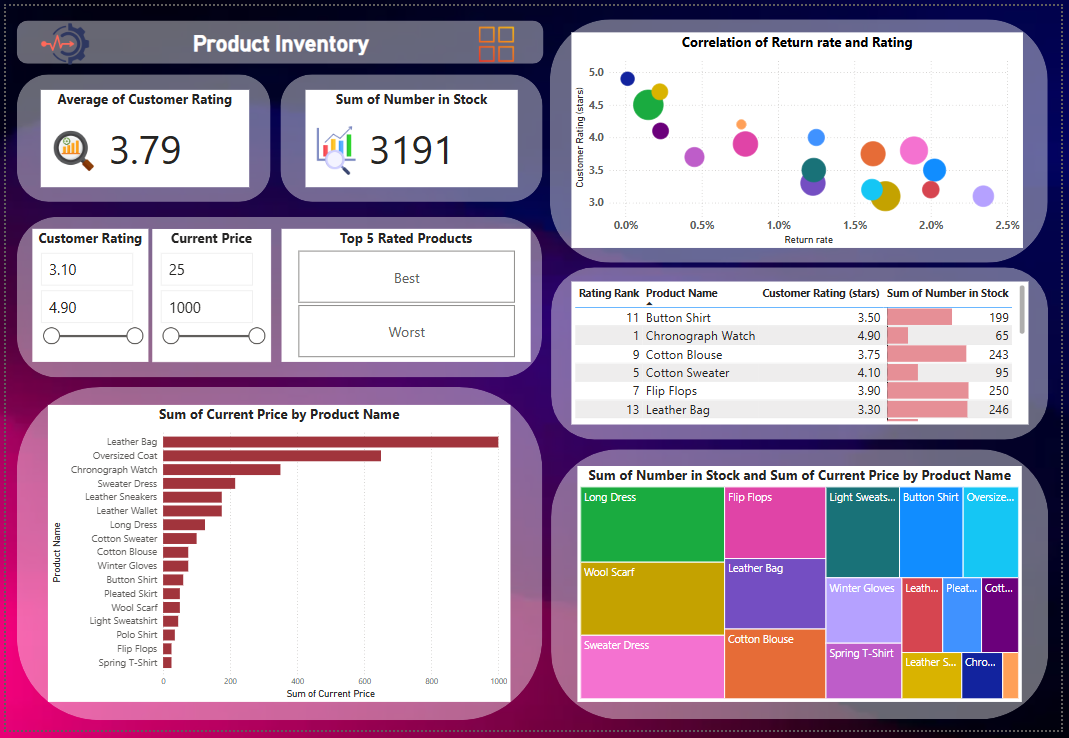

What the dashboard file says about the page in this screenshot:
{"tool":"powerbi","page":{"name":"Product Inventory","canvas":[1600,1100],"ordinal":1},"visuals":[{"type":"shape","box":[826.7,673.3,755,410],"z":0},{"type":"shape","box":[827.3,396.4,754.5,261.8],"z":1000},{"type":"shape","box":[16,578,798,506],"z":2000},{"type":"shape","box":[16,22,800,66],"z":3000},{"type":"shape","box":[16,320,798,244],"z":4000},{"type":"shape","box":[16,104,386,194],"z":5000},{"type":"shape","box":[416,104,398,194],"z":6000},{"type":"shape","box":[826,20,756,370],"z":7000},{"type":"card","title":"Sum of Number in Stock","fields":{"Values":["Sum(Product Inventory.Number in Stock)"]},"box":[454,128,322,148],"z":8000},{"type":"slicer","title":"Customer Rating ","fields":{"Values":["Product Inventory.Customer Rating (stars)"]},"box":[40,338,176,202],"z":9000},{"type":"clusteredBarChart","title":"Sum of Current Price by Product Name","fields":{"Category":["Product Inventory.Product Name"],"Y":["Sum(Product Inventory.Current Price)"]},"box":[63.6,605.5,701.8,450.9],"z":10000},{"type":"treemap","fields":{"Group":["Product Inventory.Product Name"],"Values":["Sum(Product Inventory.Number in Stock)"]},"box":[867.3,698.2,674.5,358.2],"z":11000},{"type":"slicer","title":"Top 5 Rated Products","fields":{"Values":["FilterTable.FilterType"]},"box":[418.2,338.2,378.2,201.8],"z":12000},{"type":"tableEx","fields":{"Values":["Product Inventory.Rating Rank","Product Inventory.Product Name","Product Inventory.Customer Rating (stars)","Sum(Product Inventory.Number in Stock)"]},"box":[858.3,418.3,693.3,216.7],"z":13000},{"type":"scatterChart","title":"Correlation of Return rate and Rating","fields":{"X":["Product Inventory.Return rate"],"Y":["Product Inventory.Customer Rating (stars)"],"Series":["Product Inventory.Product Name"],"Size":["Sum(Product Inventory.Number in Stock)"]},"box":[858.2,40,685.5,327.3],"z":14000},{"type":"textbox","title":"Product Inventory","box":[120,36.4,594.5,38.2],"z":15000},{"type":"image","box":[458,176,86,86],"z":16000},{"type":"image","box":[40,14,100,86],"z":17000},{"type":"image","box":[712,20,64,76],"z":18000},{"type":"card","title":"Average of Customer Rating","fields":{"Values":["Avg(Product Inventory.Customer Rating (stars))"]},"box":[52,128,316,148],"z":19000},{"type":"slicer","title":"Current Price","fields":{"Values":["Product Inventory.Current Price"]},"box":[221.8,338.2,180,201.8],"z":20000},{"type":"image","box":[62,176,82,86],"z":21000}]}

Visuals, with their boxes in screenshot pixels (x1, y1, x2, y2), scaled from the page's 1600x1100 canvas onto the 1069x738 screenshot:
shape: {"x1": 552, "y1": 452, "x2": 1057, "y2": 727}
shape: {"x1": 553, "y1": 266, "x2": 1057, "y2": 442}
shape: {"x1": 11, "y1": 388, "x2": 544, "y2": 727}
shape: {"x1": 11, "y1": 15, "x2": 545, "y2": 59}
shape: {"x1": 11, "y1": 215, "x2": 544, "y2": 378}
shape: {"x1": 11, "y1": 70, "x2": 269, "y2": 200}
shape: {"x1": 278, "y1": 70, "x2": 544, "y2": 200}
shape: {"x1": 552, "y1": 13, "x2": 1057, "y2": 262}
"Sum of Number in Stock" card: {"x1": 303, "y1": 86, "x2": 518, "y2": 185}
"Customer Rating " slicer: {"x1": 27, "y1": 227, "x2": 144, "y2": 362}
"Sum of Current Price by Product Name" clusteredBarChart: {"x1": 42, "y1": 406, "x2": 511, "y2": 709}
treemap - Product Inventory.Product Name x Sum(Product Inventory.Number in Stock): {"x1": 579, "y1": 468, "x2": 1030, "y2": 709}
"Top 5 Rated Products" slicer: {"x1": 279, "y1": 227, "x2": 532, "y2": 362}
tableEx - Product Inventory.Rating Rank x Product Inventory.Product Name: {"x1": 573, "y1": 281, "x2": 1037, "y2": 426}
"Correlation of Return rate and Rating" scatterChart: {"x1": 573, "y1": 27, "x2": 1031, "y2": 246}
"Product Inventory" textbox: {"x1": 80, "y1": 24, "x2": 477, "y2": 50}
image: {"x1": 306, "y1": 118, "x2": 363, "y2": 176}
image: {"x1": 27, "y1": 9, "x2": 94, "y2": 67}
image: {"x1": 476, "y1": 13, "x2": 518, "y2": 64}
"Average of Customer Rating" card: {"x1": 35, "y1": 86, "x2": 246, "y2": 185}
"Current Price" slicer: {"x1": 148, "y1": 227, "x2": 268, "y2": 362}
image: {"x1": 41, "y1": 118, "x2": 96, "y2": 176}
